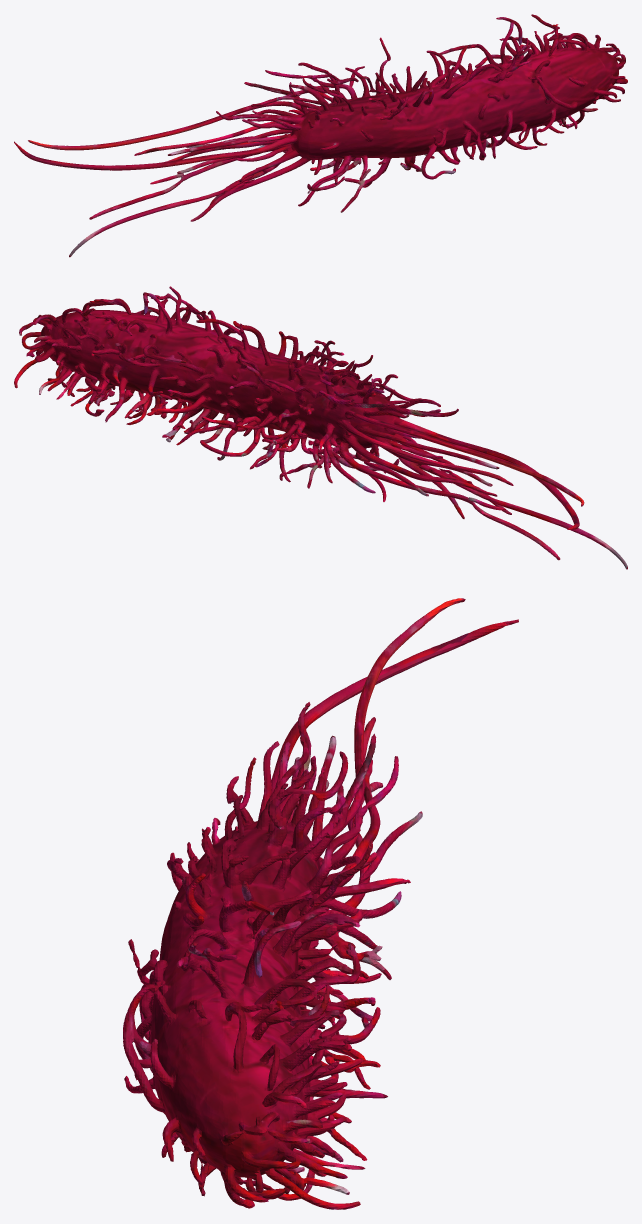
Rendered from e-coli.glb.
The picture shows the model from 3 angles, top to bottom: view 1: azimuth 30°, elevation 25°; view 2: azimuth 150°, elevation 25°; view 3: azimuth 270°, elevation 25°; orthographic projection. The views are drawn at different scales.
Visible parts, largest first — view 1: tripo_node_f67984b5-8b1a-4963-814b-e7b6baf6bc8f; view 2: tripo_node_f67984b5-8b1a-4963-814b-e7b6baf6bc8f; view 3: tripo_node_f67984b5-8b1a-4963-814b-e7b6baf6bc8f.
Boxes of the visible parts, x1=… form: tripo_node_f67984b5-8b1a-4963-814b-e7b6baf6bc8f: x1=14, y1=14, x2=627, y2=257; tripo_node_f67984b5-8b1a-4963-814b-e7b6baf6bc8f: x1=14, y1=286, x2=627, y2=569; tripo_node_f67984b5-8b1a-4963-814b-e7b6baf6bc8f: x1=123, y1=598, x2=518, y2=1209.
Bounding box in the file's own units: 1 × 0.2385 × 0.3136.
1 material, 1 textured.
